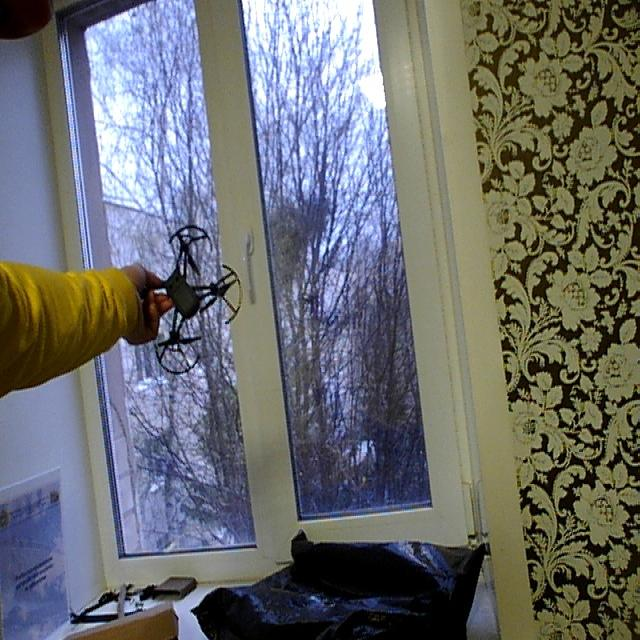drone: (131, 218, 250, 389)
